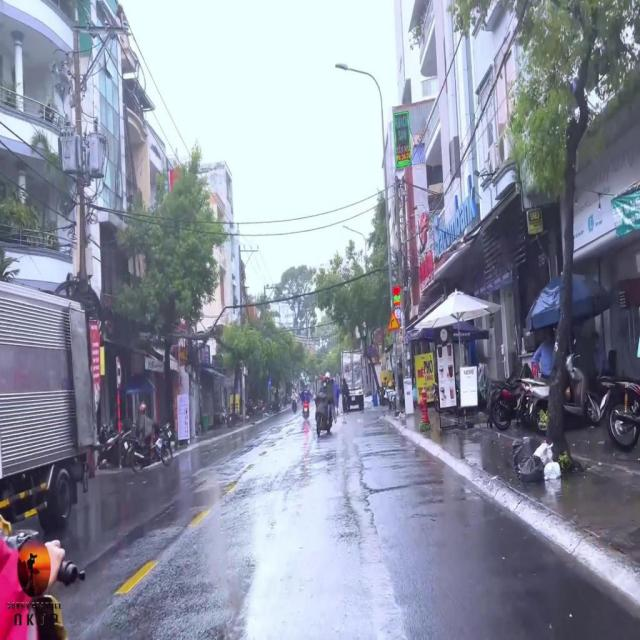cho_ngoat_nguy_hiem_ben_phai: (387, 310, 400, 330)
